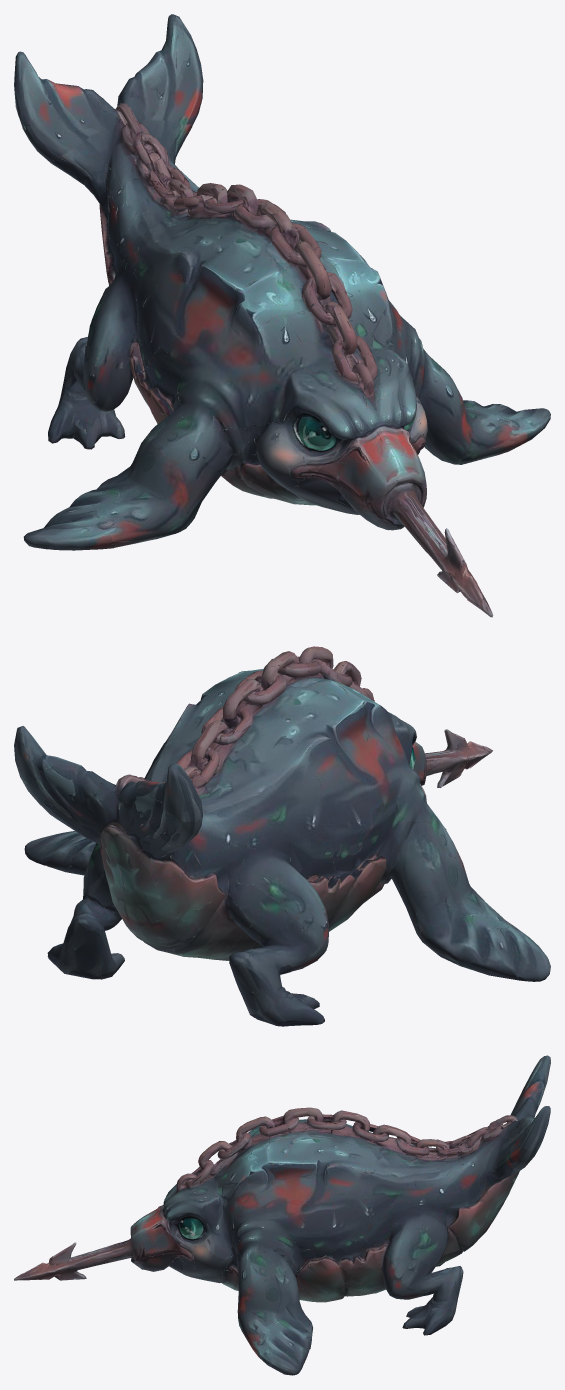
3 views of the same model, one above another, from view 1: azimuth 30°, elevation 25°; view 2: azimuth 150°, elevation 25°; view 3: azimuth 270°, elevation 25° (orthographic). The views are drawn at different scales.
Parts seen in each view (by area): view 1: Mesh_0; view 2: Mesh_0; view 3: Mesh_0.
Part boxes in pixels (x1,y1,x2,y2): Mesh_0: (14,14,550,617); Mesh_0: (14,646,550,1026); Mesh_0: (14,1055,550,1375).
Size of the model in its own units: 1.44 by 0.8196 by 1.9.
1 material, 1 textured.
